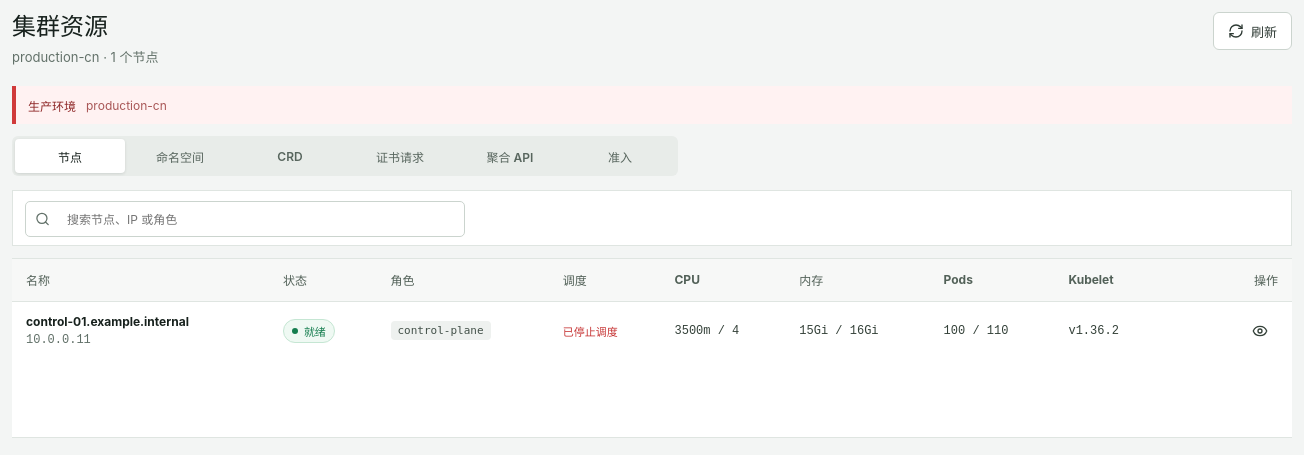
Scenario: ClusterResourcesPage › switches to searchable namespace inventory
The image size is (1304, 455).
Expected: the text "control-01.example.internal" is shown, [26,314,189,329]
Click the button "命名空间" at coordinates (180, 156), box [125,139,235,173]
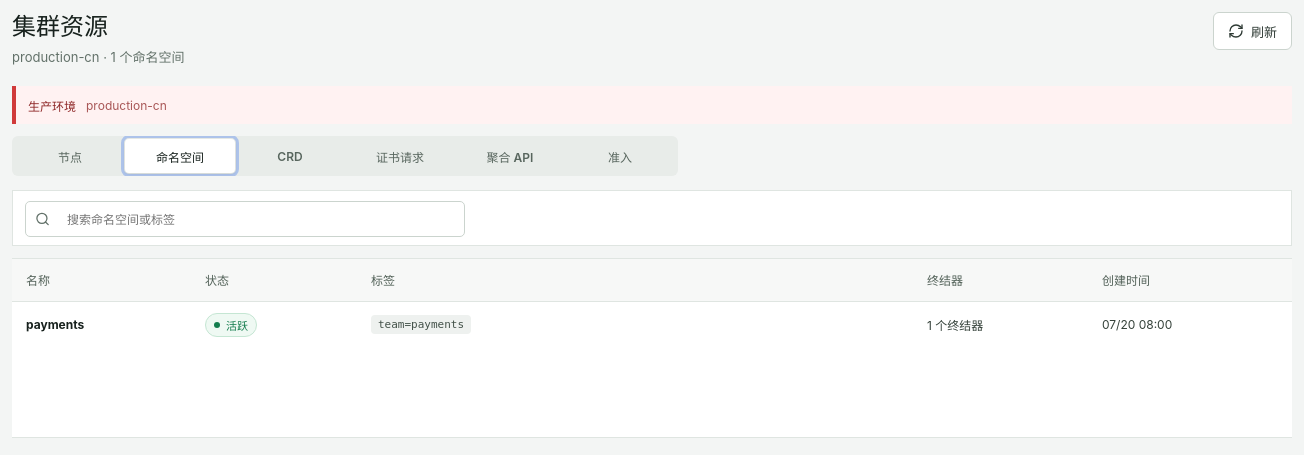
Now the text "payments" is shown, box [26,317,84,332]
Now the text "team=payments" is shown, box [371,315,471,334]
Now the text "1 个终结器" is shown, box [913,301,1088,348]
Type "missing" into the search field named "搜索集群资源" at coordinates (256, 219), box [57,200,455,238]
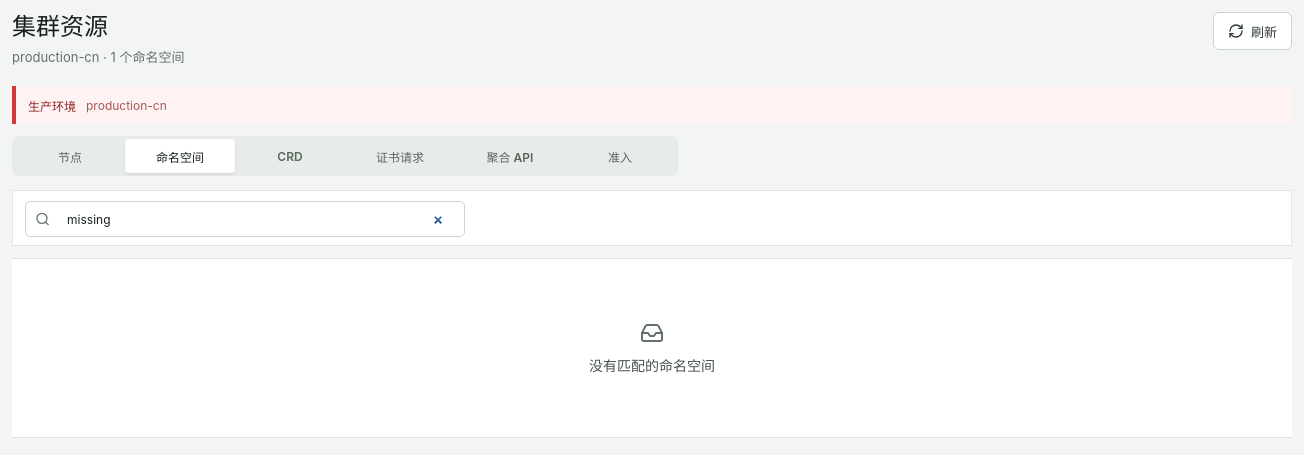
Now the text "没有匹配的命名空间" is shown, box [589,355,715,375]
